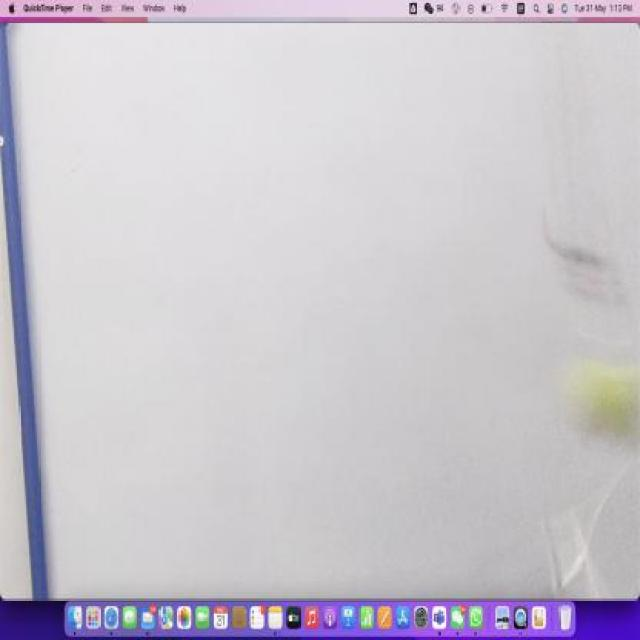baseball: (554, 385, 640, 420)
